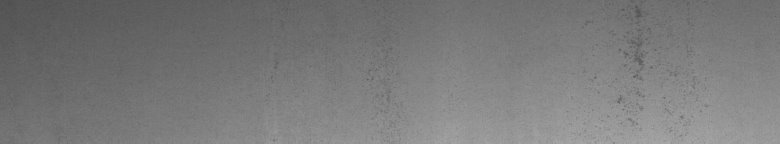ib: (582, 4, 692, 126)
